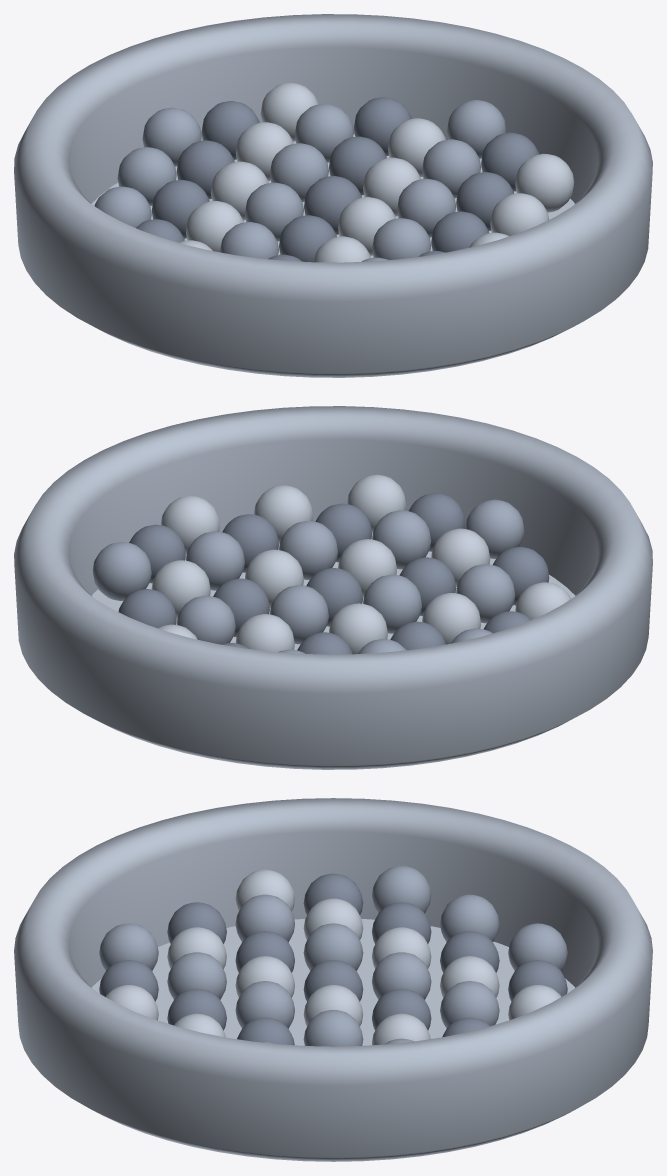
Rendered from ball-pit-lite.glb.
3 renders of one model, top to bottom at view 1: azimuth 30°, elevation 25°; view 2: azimuth 150°, elevation 25°; view 3: azimuth 270°, elevation 25°, orthographic.
Visible parts, largest first — view 1: soft, body, light, accent; view 2: soft, light, body, accent; view 3: soft, light, body, accent.
Part boxes in pixels (left/top/right/bottom): soft: left=14, top=14, right=652, bottom=377; body: left=94, top=100, right=505, bottom=261; light: left=91, top=82, right=574, bottom=262; accent: left=136, top=97, right=538, bottom=262; soft: left=14, top=406, right=652, bottom=769; light: left=92, top=474, right=575, bottom=654; body: left=92, top=499, right=524, bottom=653; accent: left=118, top=493, right=549, bottom=654; soft: left=14, top=798, right=652, bottom=1161; light: left=92, top=869, right=574, bottom=1045; body: left=99, top=865, right=567, bottom=1046; accent: left=99, top=873, right=567, bottom=1046.
Bounding box in the file's own units: 1.5 × 0.28 × 1.5.
